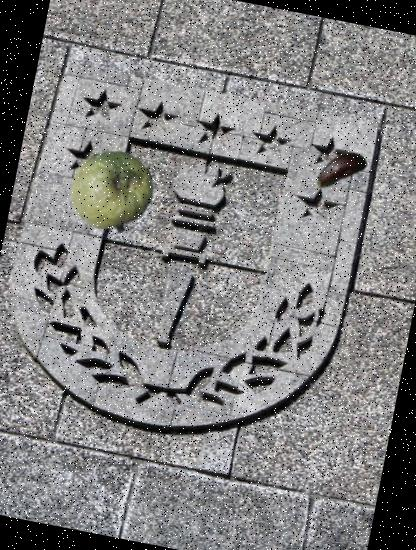Eggplant: (304, 134, 372, 203)
Limes: (61, 142, 162, 242)
